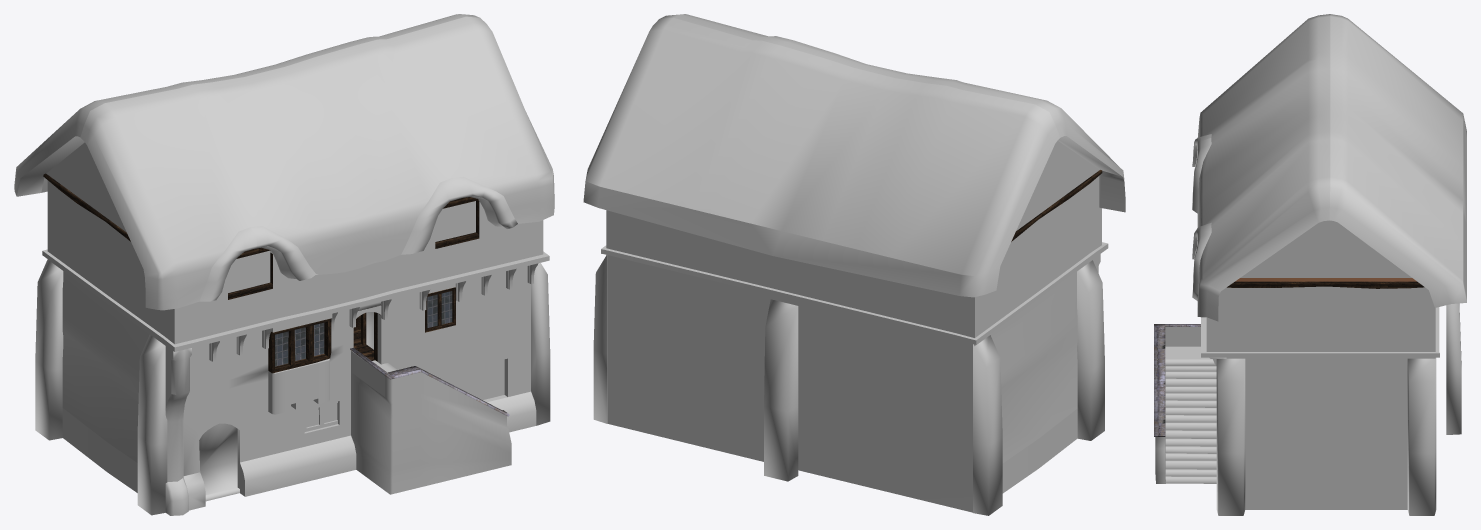
The model's file is VillageBuildingA.dae.
The picture shows the model from 3 angles, left to right: view 1: azimuth 30°, elevation 25°; view 2: azimuth 150°, elevation 25°; view 3: azimuth 270°, elevation 25°; orthographic projection. The views are drawn at different scales.
Visible parts, largest first — view 1: meshU3D; view 2: meshU3D; view 3: meshU3D.
Boxes of the visible parts, left/top/right/bottom form: meshU3D: left=14, top=14, right=554, bottom=515; meshU3D: left=583, top=14, right=1125, bottom=515; meshU3D: left=1154, top=14, right=1466, bottom=515.
Bounding box in the file's own units: 514 × 438 × 375.
